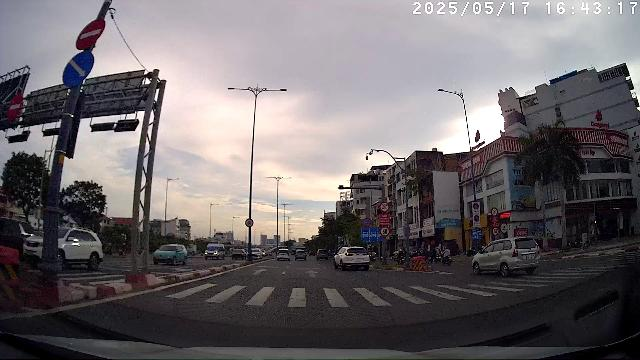102-cam-di-nguoc-chieu: (76, 18, 105, 50)
127-toc-do-toi-da-60: (380, 227, 390, 238)
302a-huong-phai-di-vong-chuong-ngai-vat-1: (62, 51, 94, 87)
